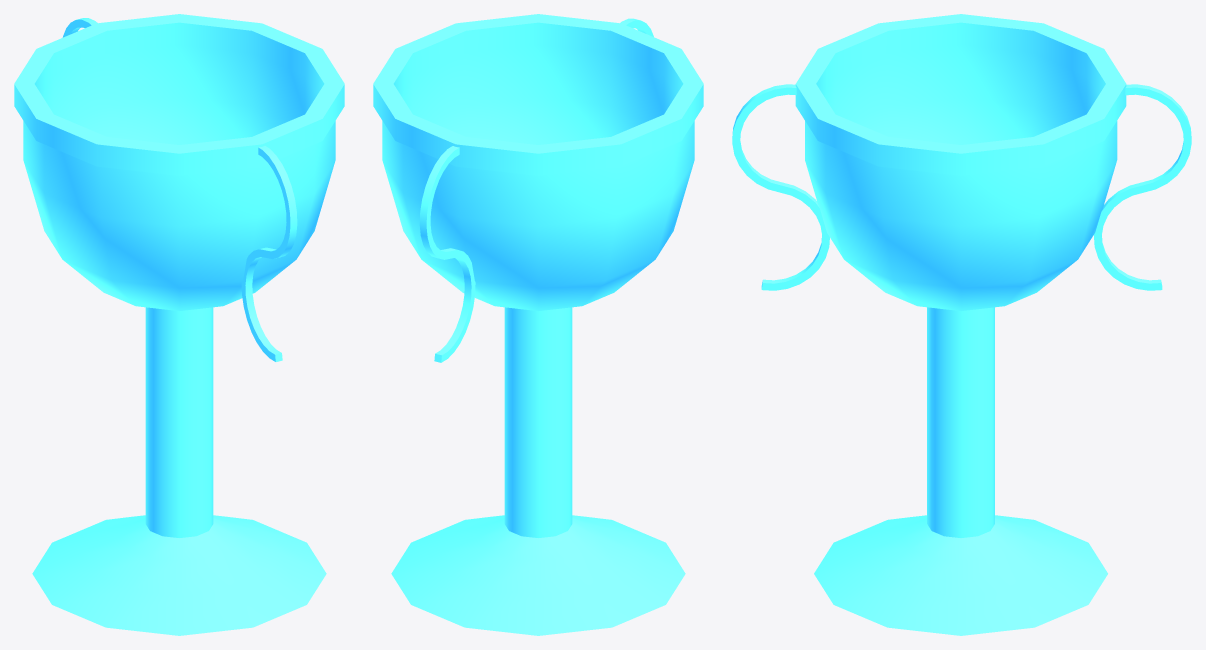
The model's file is Cup_Model_Story5.fbx.
3 views of the same model, side by side, from view 1: azimuth 30°, elevation 25°; view 2: azimuth 150°, elevation 25°; view 3: azimuth 270°, elevation 25° (orthographic).
Visible parts, largest first — view 1: Box001; view 2: Box001; view 3: Box001.
Boxes of the visible parts, x1,y1,x2,y2 form: Box001: [14, 14, 344, 635]; Box001: [373, 14, 703, 635]; Box001: [732, 14, 1191, 635].
Bounding box in the file's own units: 7.76 × 12.68 × 10.78.
